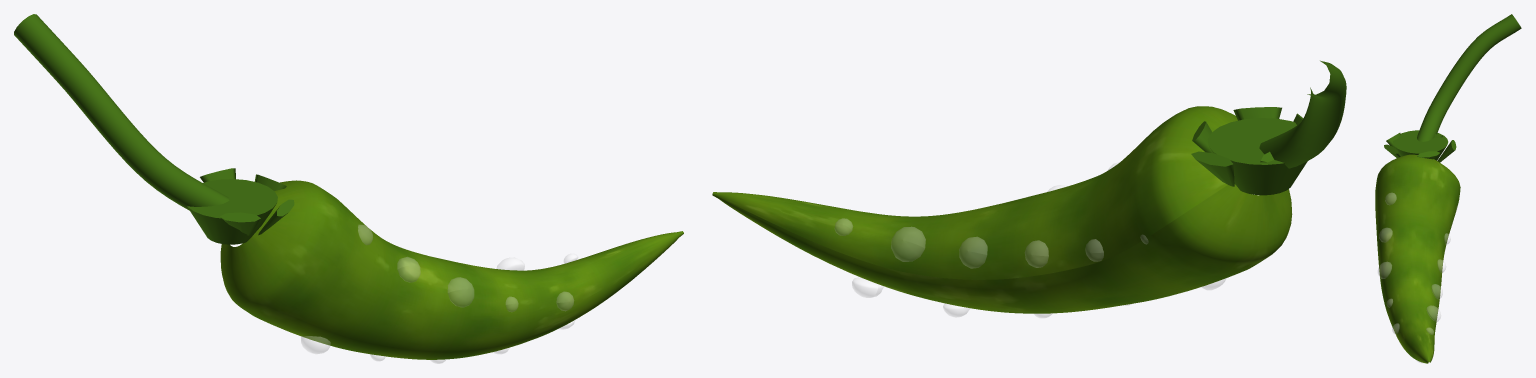
The model's file is green-chili.glb.
3 views of the same model, side by side, from view 1: azimuth 30°, elevation 25°; view 2: azimuth 150°, elevation 25°; view 3: azimuth 270°, elevation 25° (orthographic). The views are drawn at different scales.
Parts seen in each view (by area): view 1: green-chili-pod, green-chili-calyx, object 3; view 2: green-chili-pod, green-chili-calyx, object 3; view 3: green-chili-pod, green-chili-calyx, object 3.
Part boxes in pixels (<box>): green-chili-pod: <box>220,180,683,359</box>; green-chili-calyx: <box>14,14,294,244</box>; object 3: <box>301,225,577,363</box>; green-chili-pod: <box>712,106,1292,313</box>; green-chili-calyx: <box>1191,60,1346,195</box>; object 3: <box>835,162,1225,317</box>; green-chili-pod: <box>1375,154,1460,363</box>; green-chili-calyx: <box>1384,14,1521,162</box>; object 3: <box>1378,193,1457,362</box>.
Bounding box in the file's own units: 0.0851 × 0.0507 × 0.0308.
3 materials, 1 textured.
